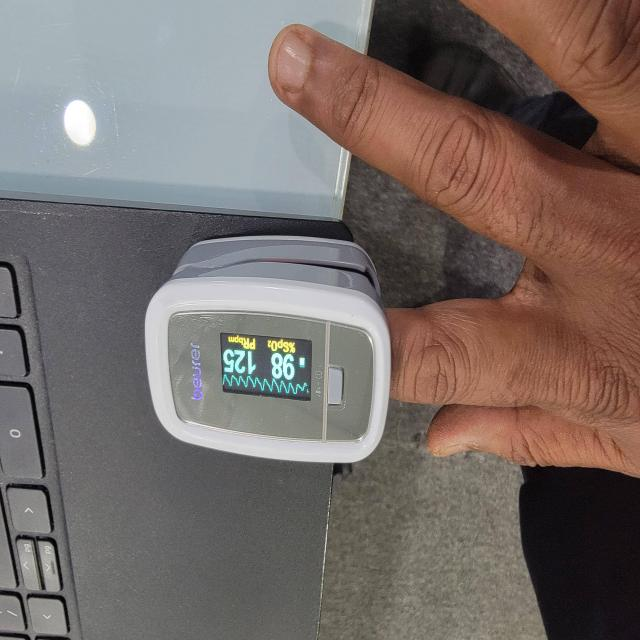spo2: (145, 238, 390, 467)
